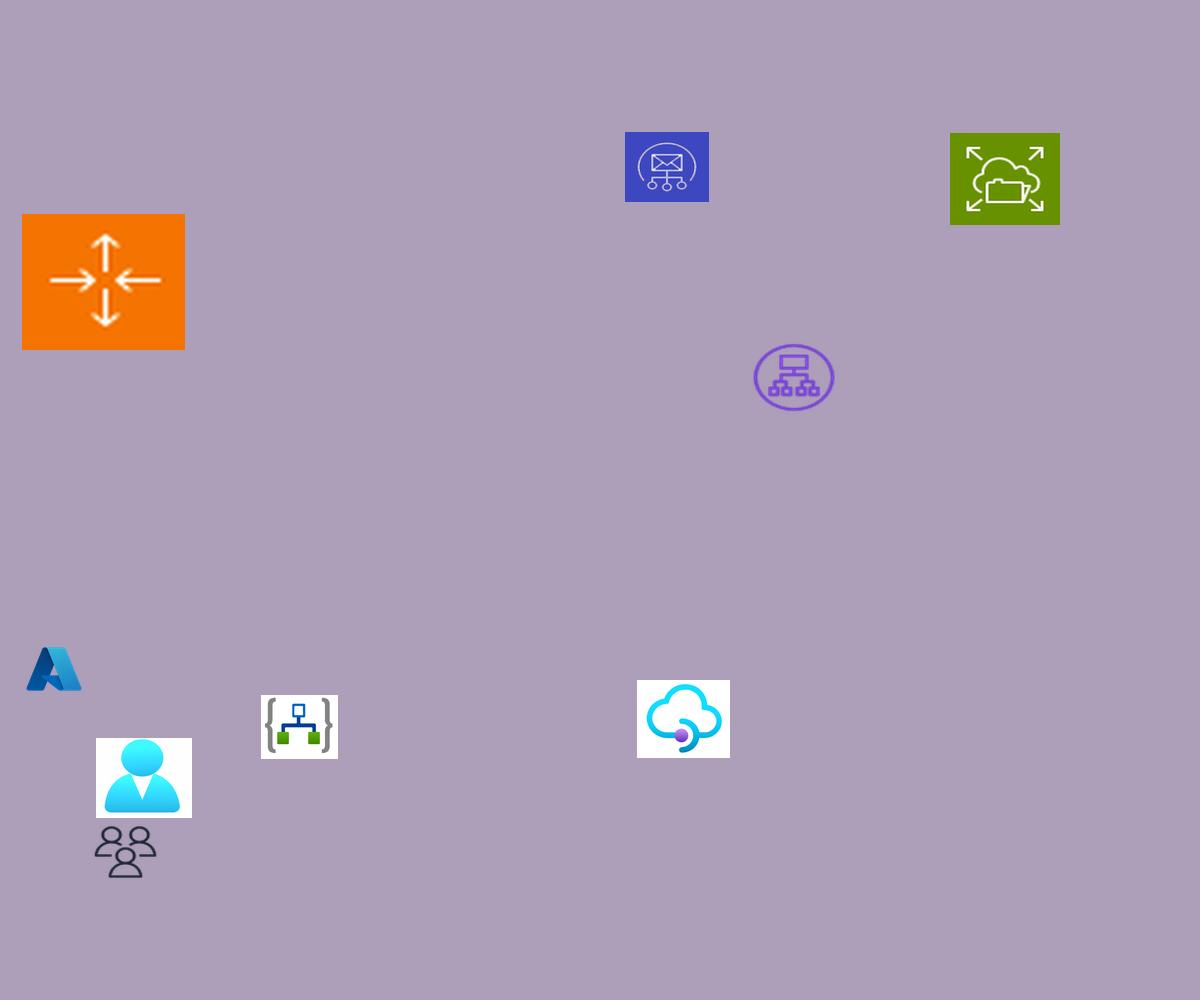AWS-EFS: (950, 133, 1060, 225)
AWS-Res_Elastic-Load-Balancing_Application-Load-Balancer: (750, 341, 838, 414)
AWS-Res_Users: (92, 824, 159, 880)
AWS-Scaling-group: (22, 214, 185, 350)
AWS-Simple-Email-Service: (625, 132, 709, 202)
Azure_api_gateway: (637, 680, 730, 758)
Azure_integration-204-Logic-Apps: (261, 695, 338, 759)
Azure_services: (24, 644, 84, 694)
Azure_users: (96, 738, 192, 818)
